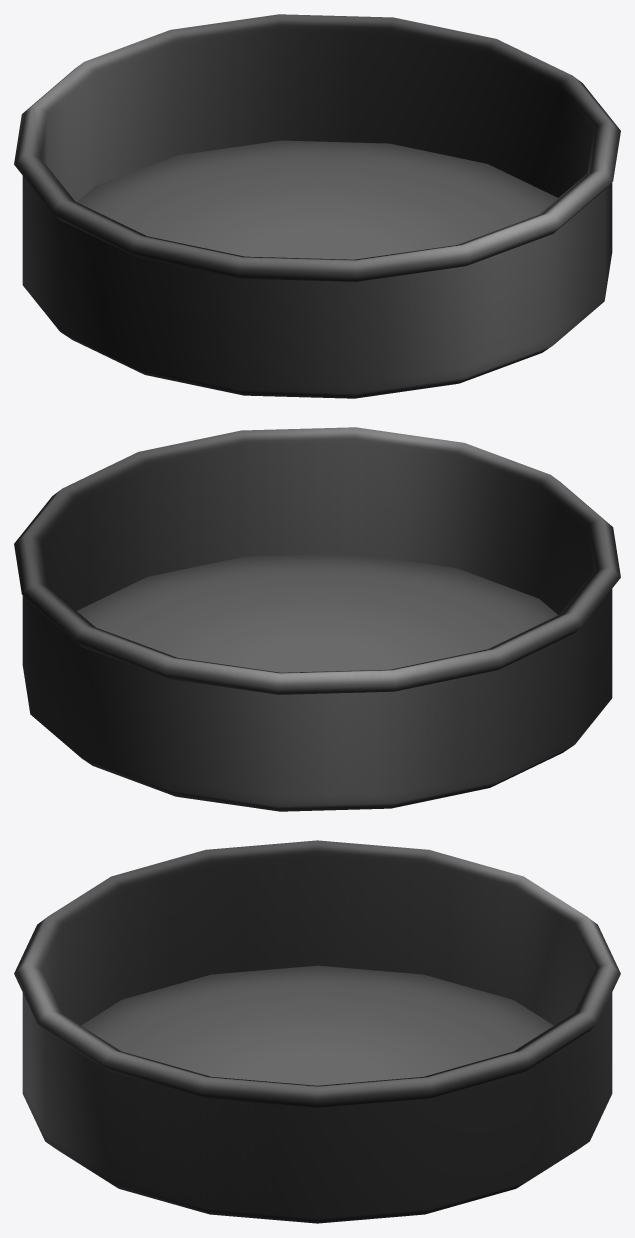
File: CakePan_02.fbx
3 renders of one model, top to bottom at view 1: azimuth 30°, elevation 25°; view 2: azimuth 150°, elevation 25°; view 3: azimuth 270°, elevation 25°, orthographic.
Parts seen in each view (by area): view 1: CakePan_02; view 2: CakePan_02; view 3: CakePan_02.
Boxes of the visible parts, x1,y1,x2,y2 form: CakePan_02: (14, 14, 620, 398); CakePan_02: (14, 427, 620, 811); CakePan_02: (14, 840, 620, 1223).
Size of the model in its own units: 103 by 26.4 by 103.
